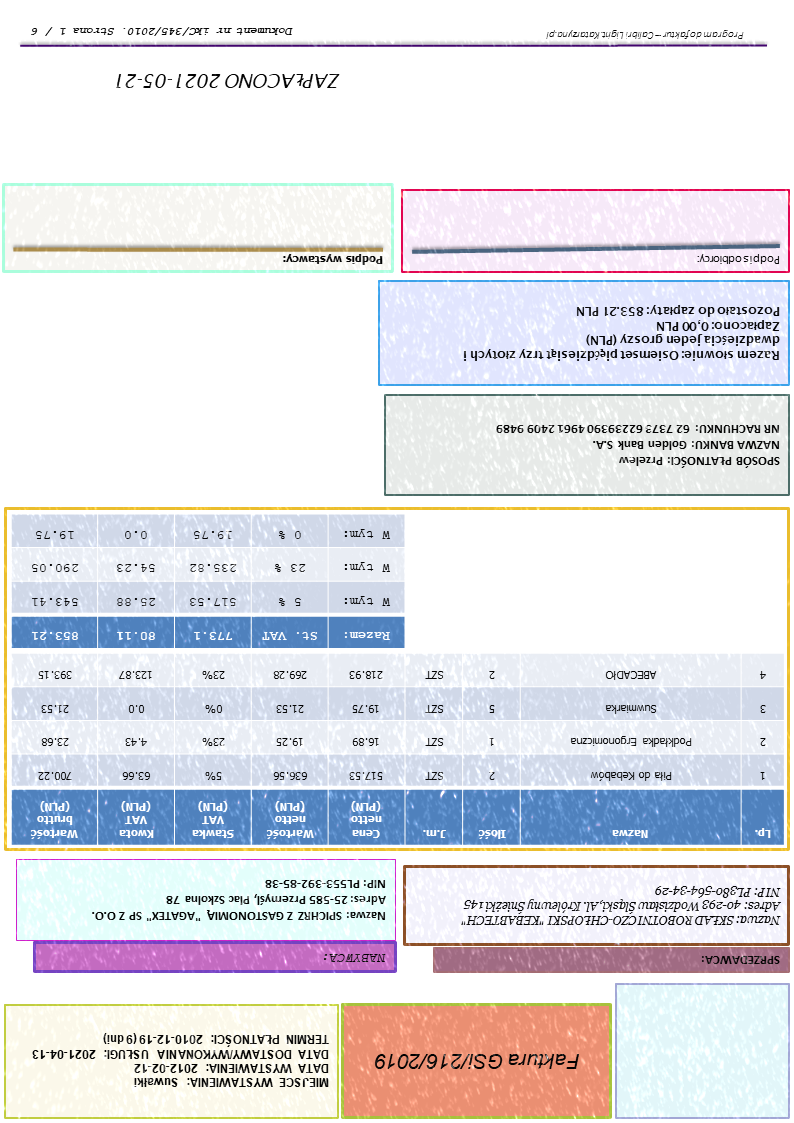Table: (11, 652, 786, 847), (11, 513, 406, 649)
TextBox: (460, 303, 782, 364), (31, 1032, 331, 1092), (457, 883, 783, 928), (495, 422, 782, 470), (89, 878, 388, 923), (114, 68, 343, 93), (374, 1051, 583, 1073), (29, 24, 296, 39), (543, 27, 747, 42), (281, 251, 386, 268), (696, 251, 783, 268), (701, 953, 783, 968), (323, 951, 387, 965)
